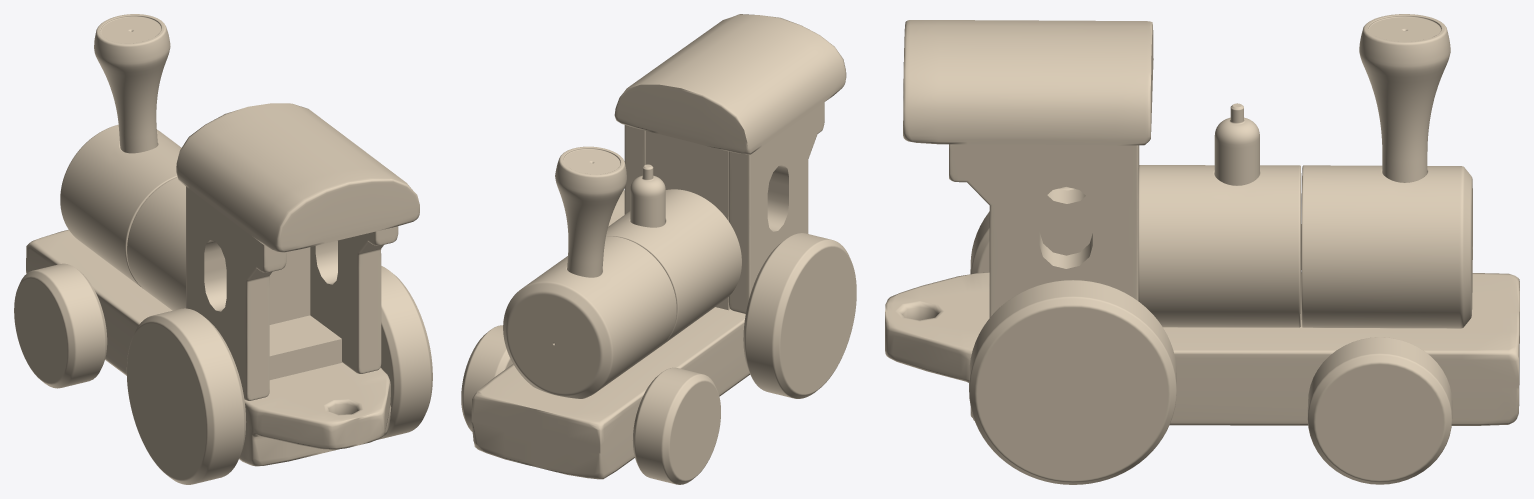
The model's file is WTrain.fbx.
3 renders of one model, left to right at view 1: azimuth 30°, elevation 25°; view 2: azimuth 150°, elevation 25°; view 3: azimuth 270°, elevation 25°, orthographic. The views are drawn at different scales.
Visible parts, largest first — view 1: Locomotive; view 2: Locomotive; view 3: Locomotive.
Boxes of the visible parts, x1,y1,x2,y2 form: Locomotive: (14,14,432,484); Locomotive: (461,14,856,484); Locomotive: (885,14,1519,484).
Size of the model in its own units: 6.91 by 9.54 by 14.06.
